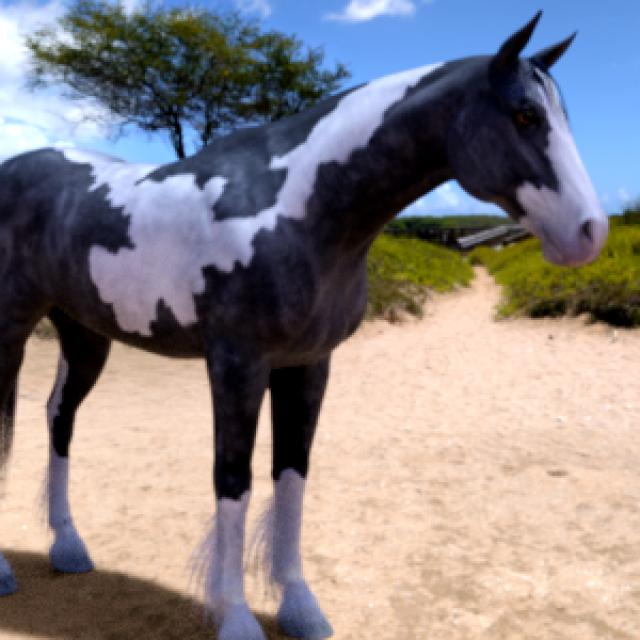horse: (0, 16, 608, 640)
